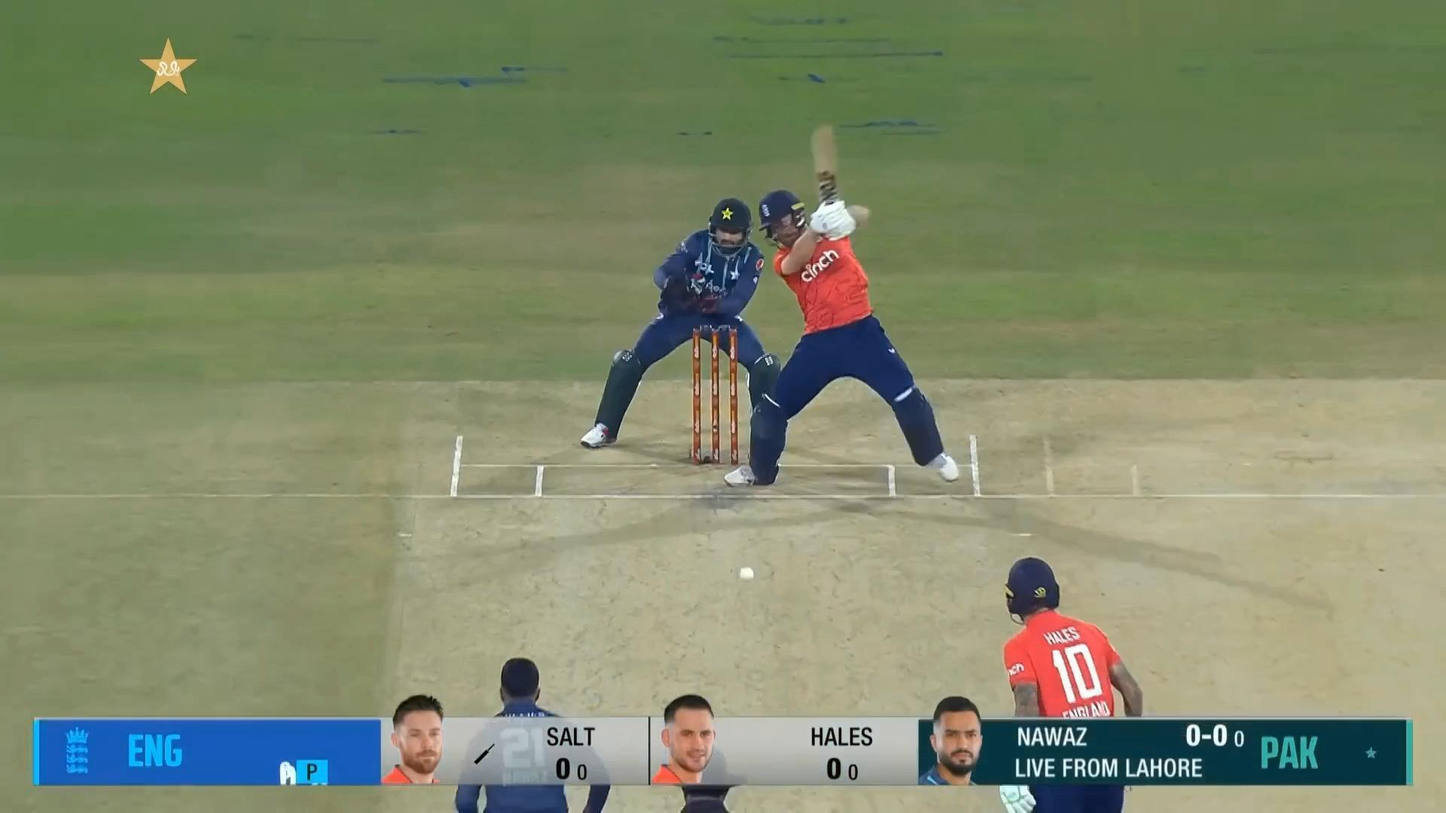BM 1: (723, 123, 961, 488)
BO: (454, 656, 612, 813)
